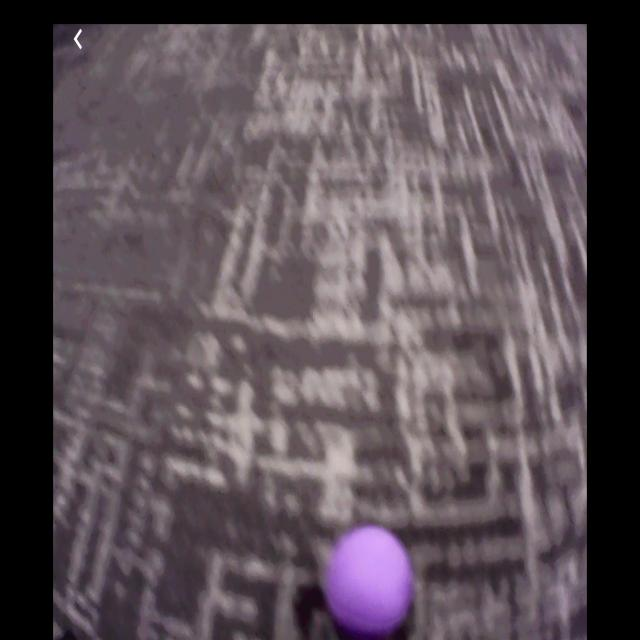ball: (326, 528, 411, 640)
